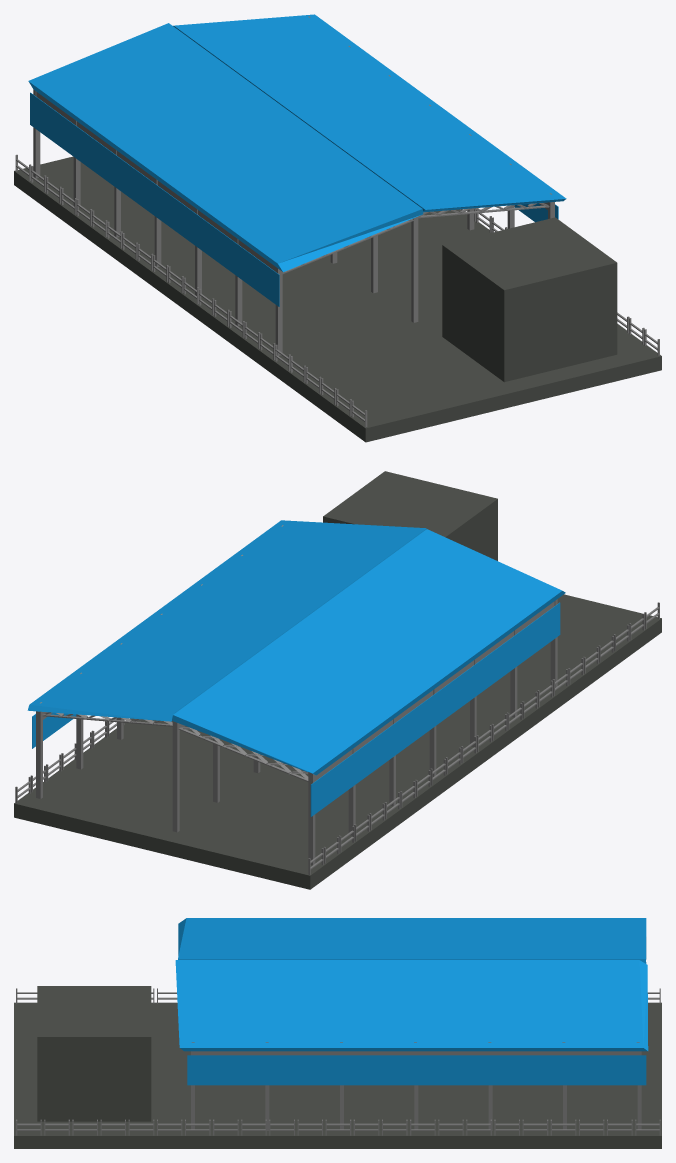
The model's file is Parking.glb.
3 renders of one model, top to bottom at view 1: azimuth 30°, elevation 25°; view 2: azimuth 150°, elevation 25°; view 3: azimuth 270°, elevation 25°, orthographic. The views are drawn at different scales.
Visible parts, largest first — view 1: Plane.001, Cube.012, Cube.009, Cube.008, Cube.021, Cube.018, Cube.023, Cube.025, Cube.031, Cube.002; view 2: Plane.001, Cube.012, Cube.009, Cube.021, Cube.008, Cube.018, Cube.023, Cube.031, Cube.025, Cube.002; view 3: Cube.009, Plane.001, Cube.012, Cube.008, Cube.022, Cube.002, Cube.025, Cube.018, Cube.023.
Part boxes in pixels (x1,y1,x2,y2): Plane.001: (14, 156, 661, 442); Cube.012: (28, 23, 423, 272); Cube.009: (173, 14, 566, 212); Cube.008: (442, 217, 617, 382); Cube.021: (30, 92, 279, 306); Cube.018: (33, 89, 554, 355); Cube.023: (15, 154, 367, 427); Cube.025: (36, 92, 553, 278); Cube.031: (282, 16, 551, 273); Cube.002: (459, 208, 659, 355); Plane.001: (14, 594, 661, 889); Cube.012: (172, 529, 565, 775); Cube.009: (27, 520, 426, 721); Cube.021: (310, 602, 560, 816); Cube.008: (323, 471, 497, 560); Cube.018: (36, 599, 557, 865); Cube.023: (308, 602, 659, 874); Cube.031: (40, 525, 308, 781); Cube.025: (43, 601, 554, 780); Cube.002: (15, 718, 124, 803); Cube.009: (175, 960, 648, 1051); Plane.001: (14, 1002, 661, 1148); Cube.012: (178, 918, 646, 963); Cube.008: (37, 986, 151, 1121); Cube.022: (187, 1055, 646, 1085); Cube.002: (16, 1119, 660, 1135); Cube.025: (195, 1051, 637, 1055); Cube.018: (191, 1051, 641, 1130); Cube.023: (16, 988, 660, 1003).
Size of the model in its own units: 37.86 by 16.22 by 77.86.
